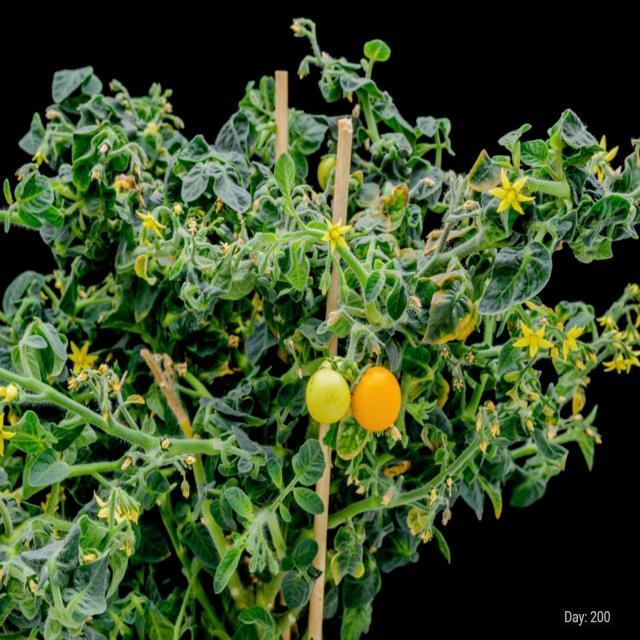tomato: (0, 18, 640, 640)
